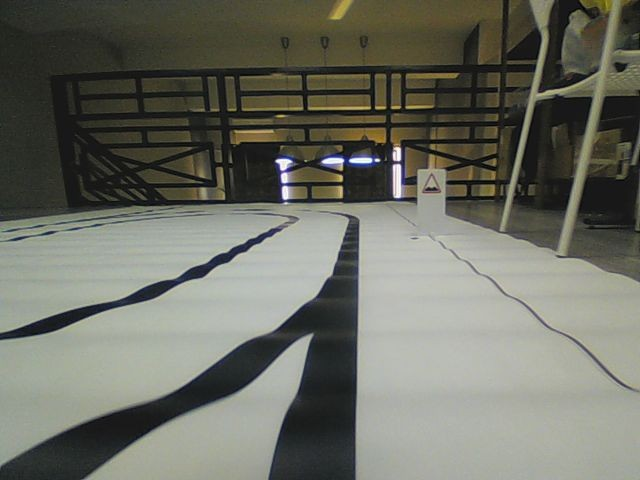Nerov: (421, 172, 442, 195)
